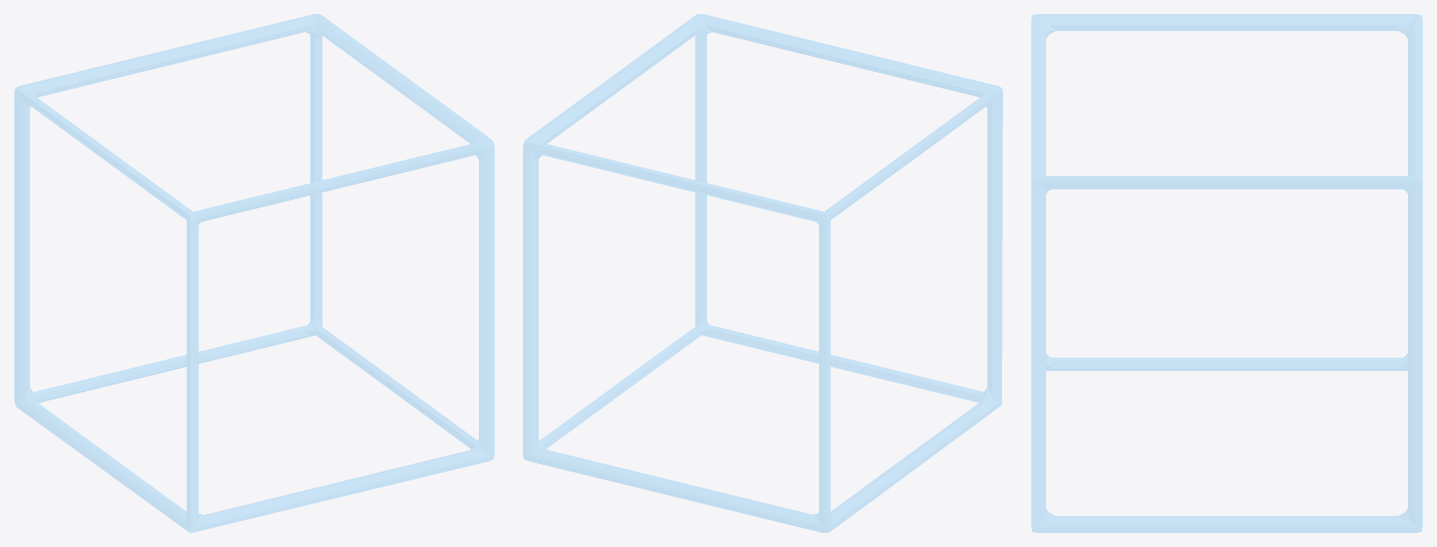
3 views of the same model, side by side, from view 1: azimuth 30°, elevation 25°; view 2: azimuth 150°, elevation 25°; view 3: azimuth 270°, elevation 25° (orthographic). The views are drawn at different scales.
Parts seen in each view (by area): view 1: Cube_3; view 2: Cube_3; view 3: Cube_3.
Part boxes in pixels (box(x1,y1,x2,y2)): Cube_3: box(14, 14, 494, 532); Cube_3: box(523, 14, 1002, 532); Cube_3: box(1031, 14, 1422, 532).
Size of the model in its own units: 1.02 by 1.02 by 1.02.
